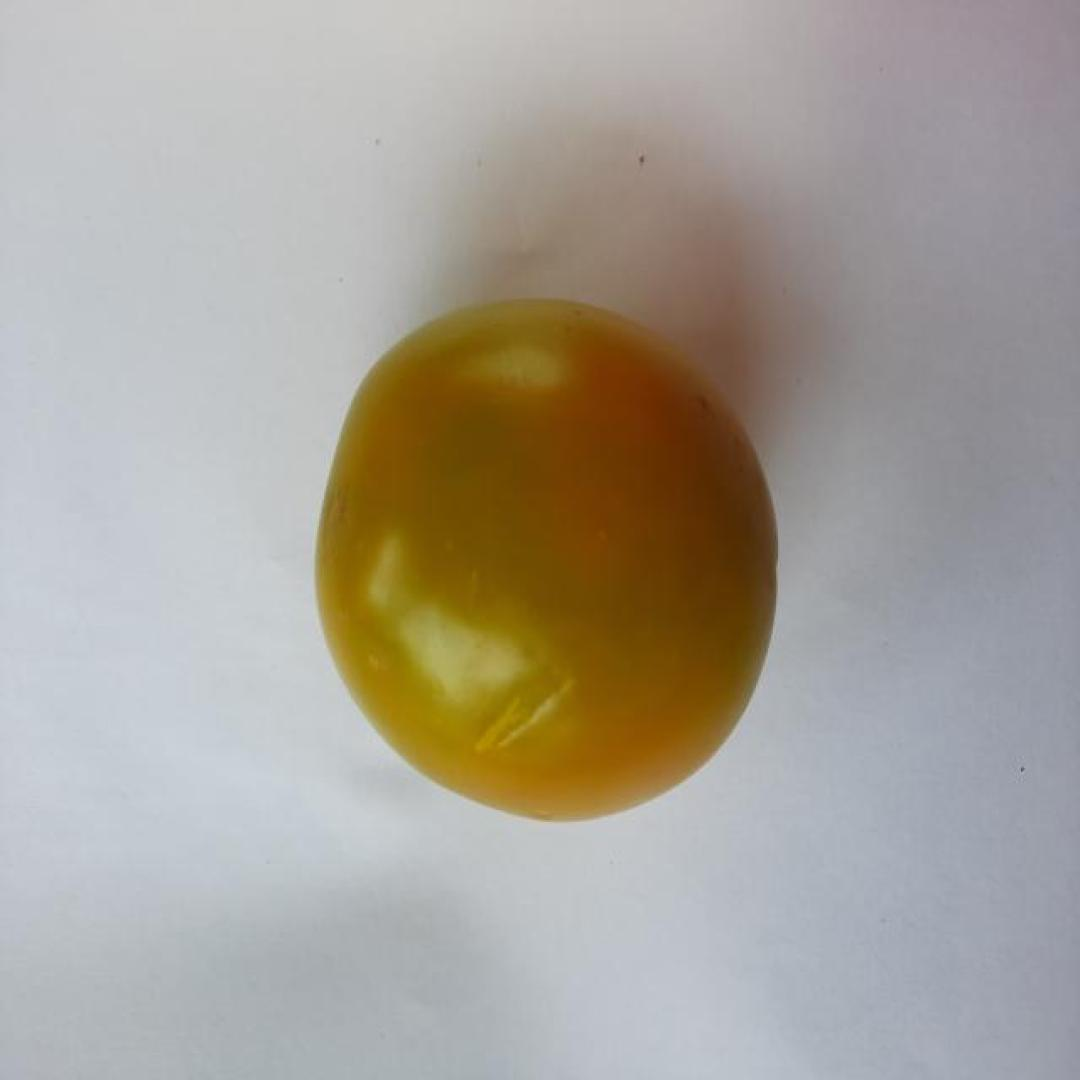setengah_matang: (307, 290, 785, 829)
